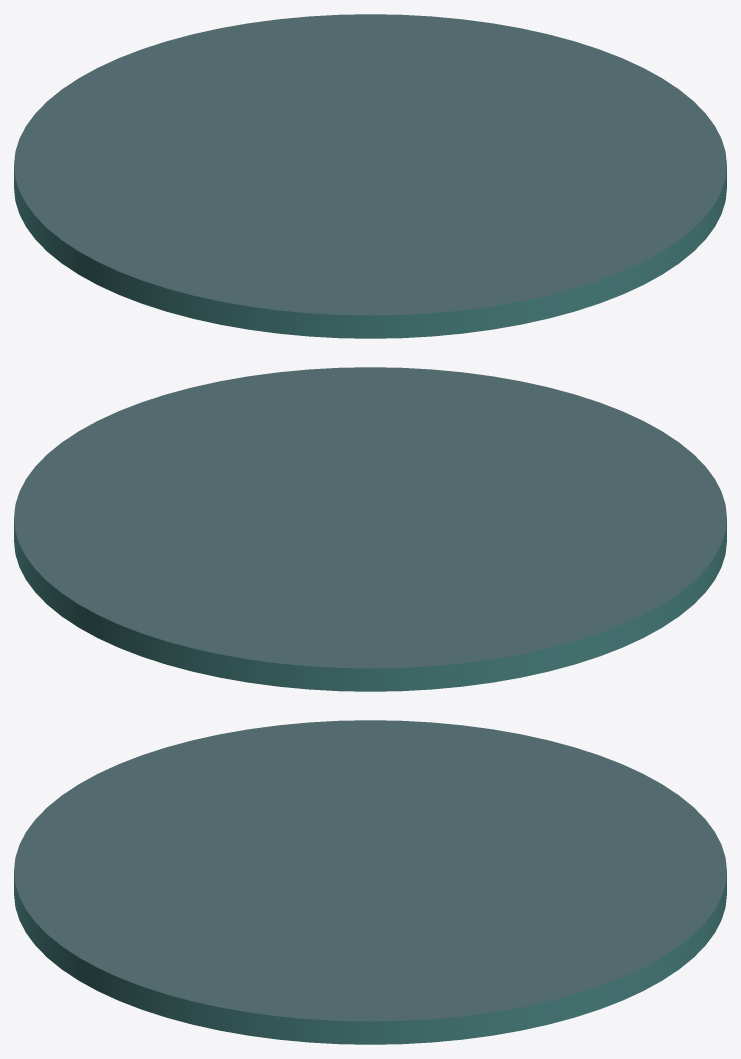
Rendered from KC32__AD_Arc_Canopy_Disc.glb.
3 renders of one model, top to bottom at view 1: azimuth 30°, elevation 25°; view 2: azimuth 150°, elevation 25°; view 3: azimuth 270°, elevation 25°, orthographic.
Visible parts, largest first — view 1: KC32_CORPS__AD_Arc_Canopy_Disc; view 2: KC32_CORPS__AD_Arc_Canopy_Disc; view 3: KC32_CORPS__AD_Arc_Canopy_Disc.
Part boxes in pixels (x1=…): KC32_CORPS__AD_Arc_Canopy_Disc: x1=14, y1=14, x2=726, y2=338; KC32_CORPS__AD_Arc_Canopy_Disc: x1=14, y1=367, x2=726, y2=691; KC32_CORPS__AD_Arc_Canopy_Disc: x1=14, y1=720, x2=726, y2=1044.
Bounding box in the file's own units: 10 × 0.512 × 10.
